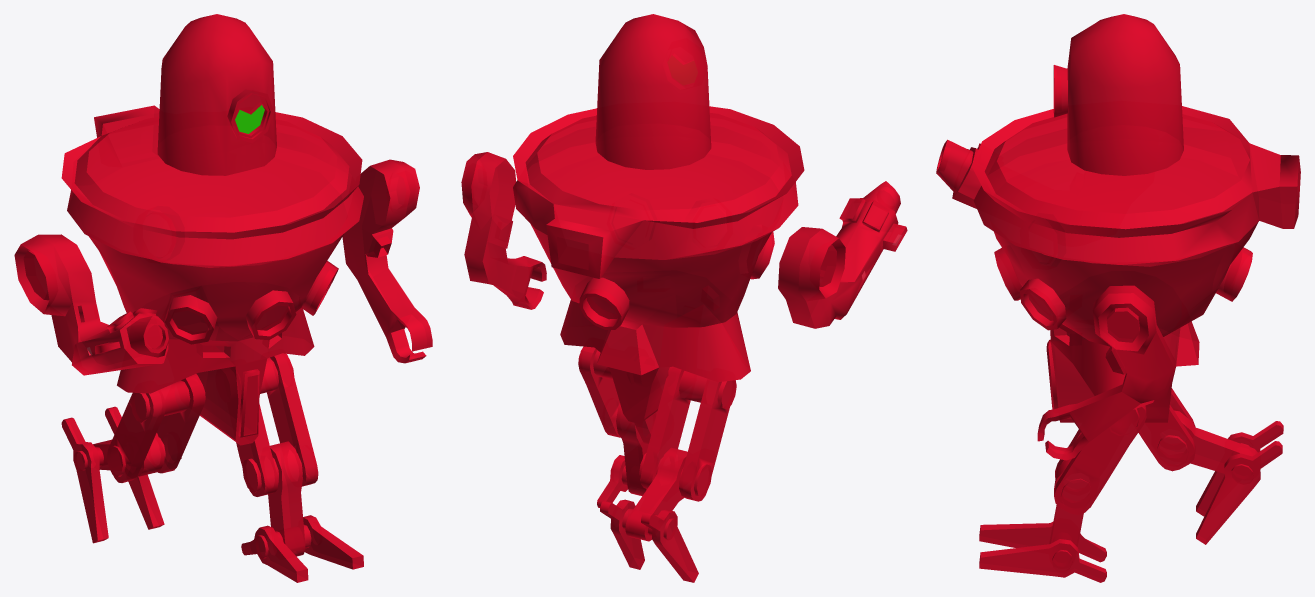
File: robot 1 BG.fbx
3 renders of one model, left to right at view 1: azimuth 30°, elevation 25°; view 2: azimuth 150°, elevation 25°; view 3: azimuth 270°, elevation 25°, orthographic. The views are drawn at different scales.
Parts seen in each view (by area): view 1: robot.002, robot.006, robot.004, robot.005, robot.001, robot.003; view 2: robot.002, robot.006, robot.001, robot.005, robot.003, robot.004; view 3: robot.002, robot.006, robot.004, robot.003, robot.001, robot.005.
Part boxes in pixels (<box>): robot.002: <box>61,105,363,445</box>; robot.006: <box>157,14,276,175</box>; robot.004: <box>236,353,363,582</box>; robot.005: <box>14,234,168,375</box>; robot.001: <box>61,374,205,543</box>; robot.003: <box>342,159,432,363</box>; robot.002: <box>513,106,804,423</box>; robot.006: <box>595,14,711,169</box>; robot.001: <box>600,366,736,582</box>; robot.005: <box>778,181,907,328</box>; robot.003: <box>461,152,546,309</box>; robot.004: <box>578,346,657,507</box>; robot.002: <box>971,106,1300,422</box>; robot.006: <box>1053,14,1183,175</box>; robot.004: <box>979,405,1146,582</box>; robot.003: <box>1037,285,1175,460</box>; robot.001: <box>1138,388,1283,544</box>; robot.005: <box>936,139,981,208</box>.
Bounding box in the file's own units: 68.49 × 92.67 × 56.83.
